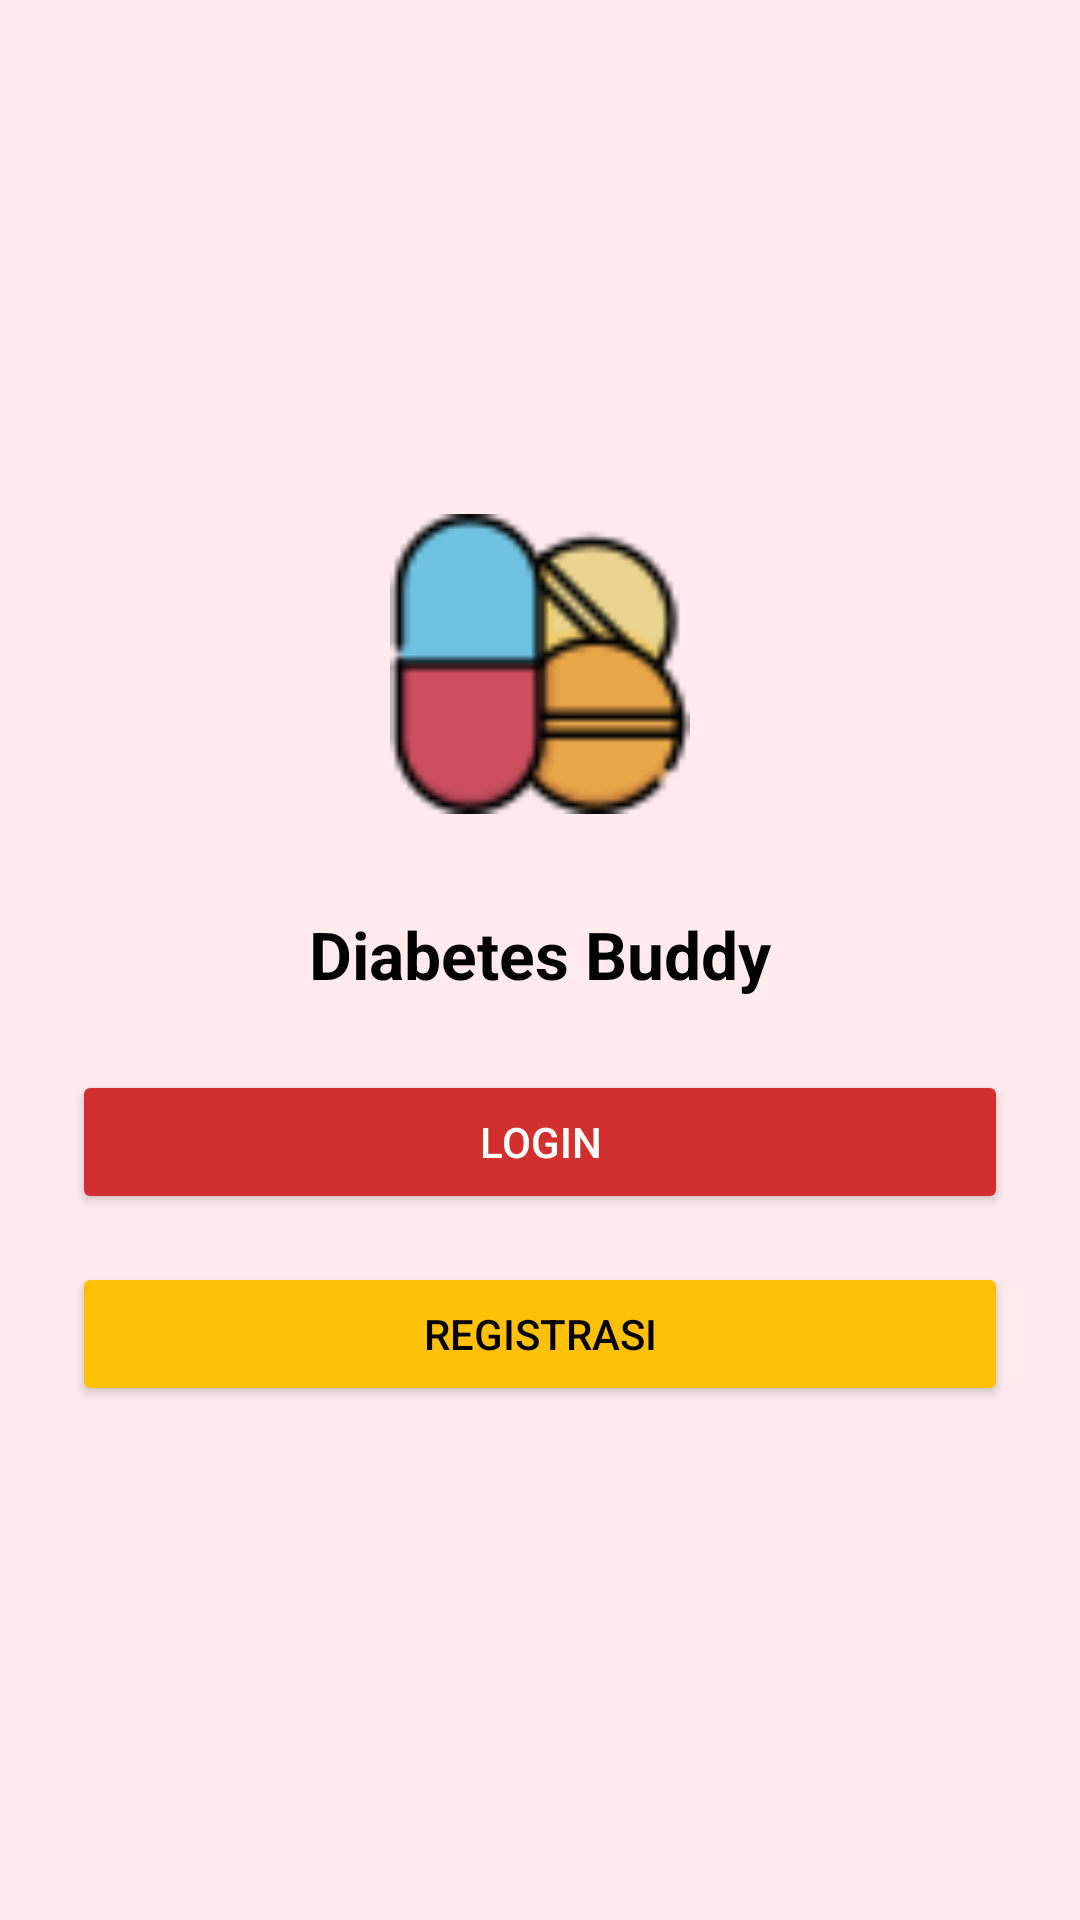

Screen size 1080×1920. Icon name, then its box in pixels as (x1,y1,x2,y2):
drugs: (390,514,690,814)
